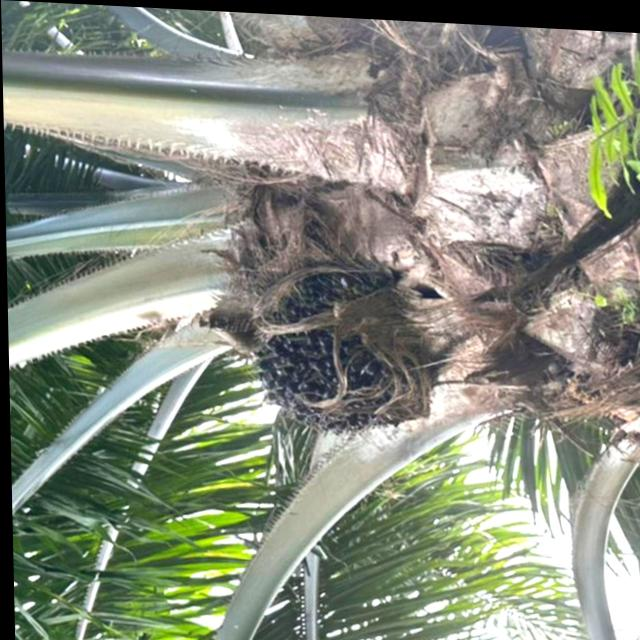unripe: (233, 228, 440, 441)
